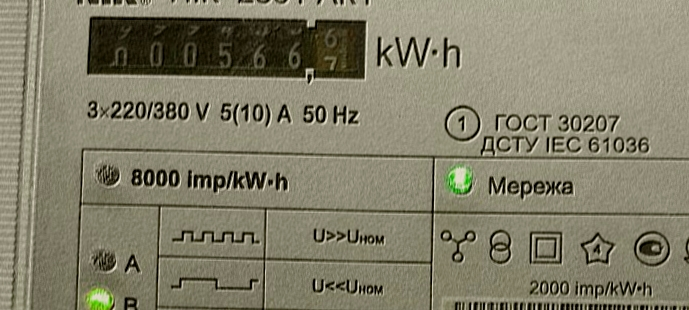0: (182, 41, 200, 70), (148, 39, 165, 68), (112, 44, 131, 67)
5: (217, 41, 235, 70)
6: (286, 40, 305, 71), (250, 42, 269, 71), (324, 27, 340, 52)
7: (323, 55, 339, 73)
9: (116, 22, 134, 42)
screen: (79, 10, 372, 89)
